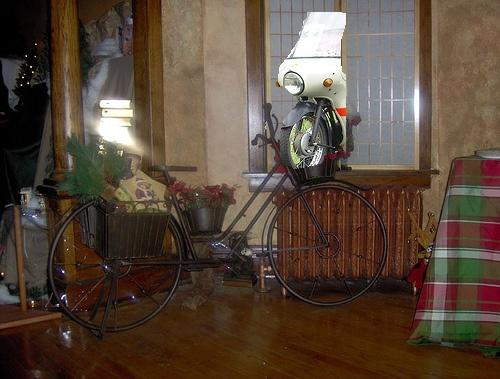tampered: (276, 13, 346, 178)
